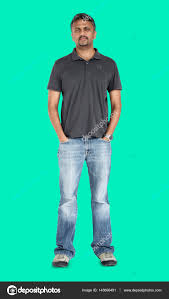standing: (41, 9, 126, 271)
